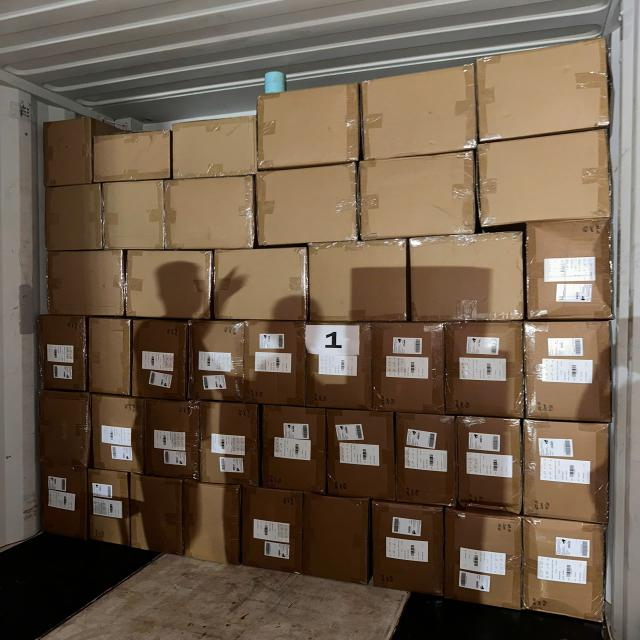Carton: (481, 42, 611, 145), (483, 129, 613, 225), (364, 69, 475, 163), (409, 234, 523, 323), (362, 150, 476, 237), (523, 420, 611, 526), (522, 516, 608, 623), (530, 219, 616, 323), (526, 321, 614, 422), (259, 84, 358, 173), (307, 240, 408, 323), (258, 162, 358, 243), (446, 512, 525, 614), (448, 320, 526, 417), (368, 322, 444, 415), (211, 250, 305, 325), (370, 504, 443, 600), (166, 178, 257, 252), (459, 417, 524, 517), (328, 407, 397, 498), (129, 250, 214, 321), (306, 493, 372, 582), (307, 324, 373, 410), (398, 415, 459, 507), (262, 407, 326, 493), (45, 252, 124, 321), (247, 320, 308, 406), (173, 116, 256, 178), (245, 489, 304, 576), (199, 405, 259, 488), (132, 320, 188, 403), (184, 485, 240, 568), (103, 180, 165, 252), (191, 322, 245, 404), (145, 399, 197, 482), (93, 392, 146, 472), (130, 478, 182, 558), (40, 390, 90, 468), (95, 130, 171, 181), (46, 186, 103, 253), (42, 313, 90, 391), (44, 463, 90, 540), (87, 318, 128, 398), (44, 117, 92, 185), (87, 470, 127, 549)
